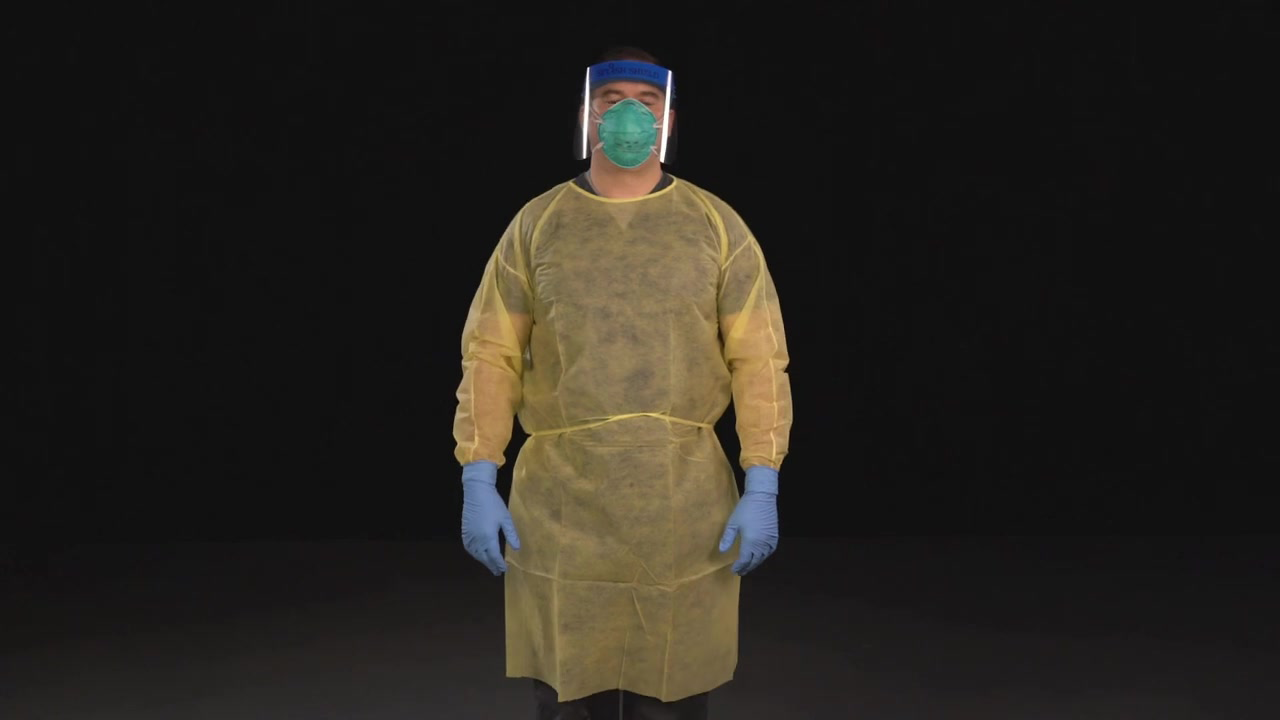Coverall: (483, 173, 746, 696)
Face_Shield: (578, 56, 675, 183)
Gloves: (446, 464, 526, 573), (720, 457, 791, 575)
with_mask: (598, 85, 657, 169)
